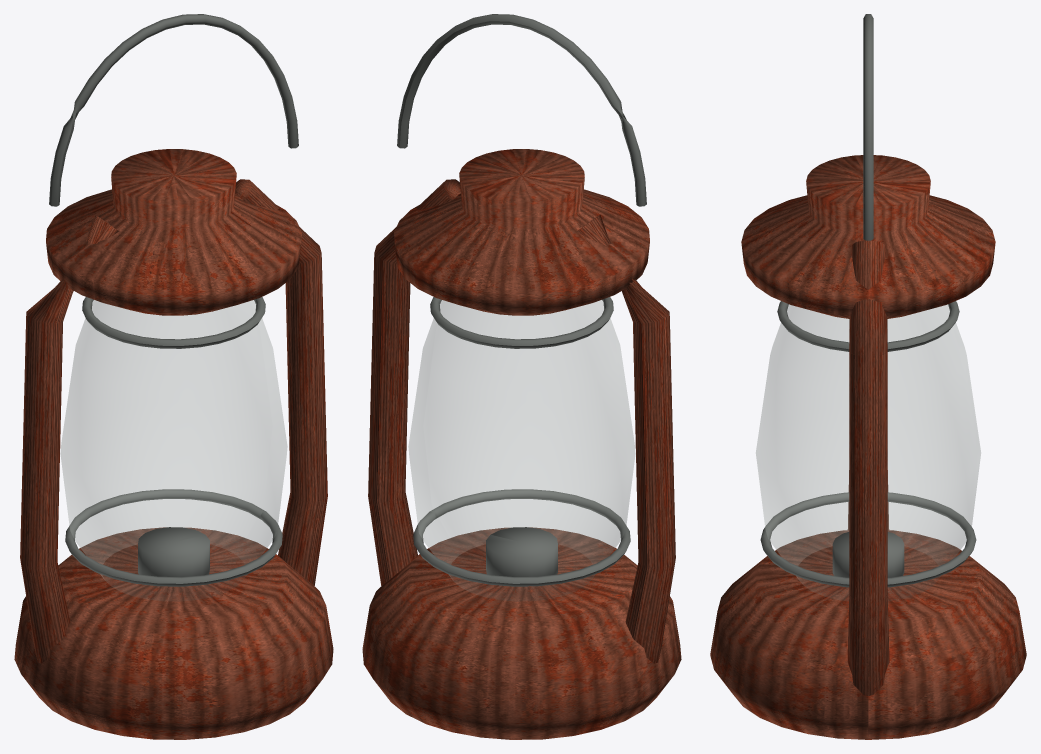
The model's file is prop_lantern.glb.
3 views of the same model, side by side, from view 1: azimuth 30°, elevation 25°; view 2: azimuth 150°, elevation 25°; view 3: azimuth 270°, elevation 25° (orthographic).
Visible parts, largest first — view 1: prop_lantern; view 2: prop_lantern; view 3: prop_lantern.
Part boxes in pixels (bbox=[...]): prop_lantern: bbox=[14, 14, 333, 739]; prop_lantern: bbox=[362, 14, 681, 739]; prop_lantern: bbox=[710, 14, 1026, 739].
Bounding box in the file's own units: 0.144 × 0.3 × 0.1313.
3 materials, 1 textured.
